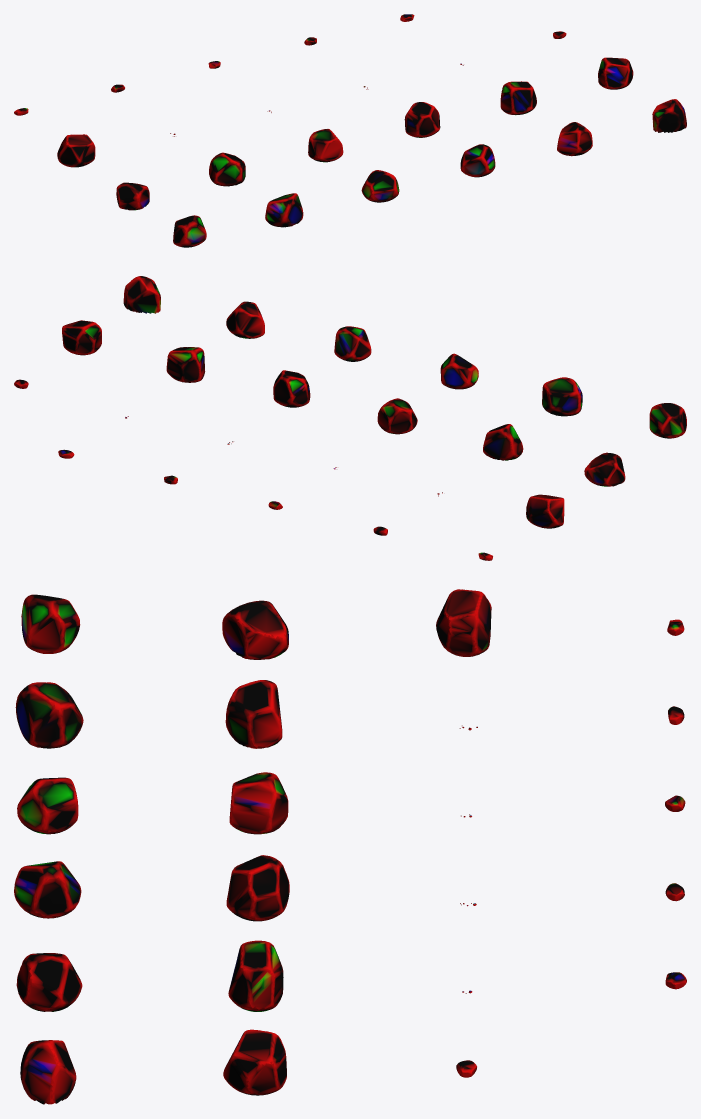
Rendered from rocks_sheet.glb.
3 renders of one model, top to bottom at view 1: azimuth 30°, elevation 25°; view 2: azimuth 150°, elevation 25°; view 3: azimuth 270°, elevation 25°, orthographic. The views are drawn at different scales.
Parts seen in each view (by area): view 1: lod0; view 2: lod0; view 3: lod0.
Part boxes in pixels (x1,y1,x2,y2): lod0: (14, 14, 686, 247); lod0: (14, 276, 686, 560); lod0: (14, 589, 686, 1104).
Size of the model in its own units: 42.81 by 2.32 by 25.77.
